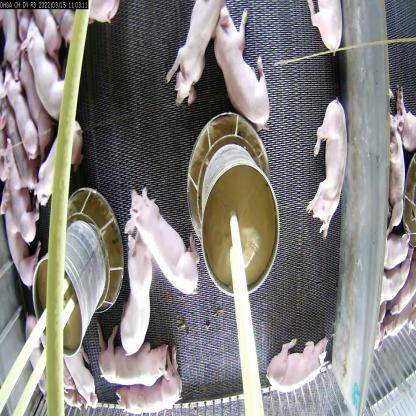Pig: (126, 177, 204, 299), (215, 4, 278, 123), (166, 0, 218, 107), (117, 229, 158, 360), (312, 93, 344, 233), (27, 24, 72, 121), (274, 333, 325, 413), (99, 332, 170, 387), (0, 206, 34, 303), (0, 154, 37, 243), (33, 125, 84, 189), (123, 356, 180, 411), (62, 343, 105, 413), (5, 62, 38, 153)
